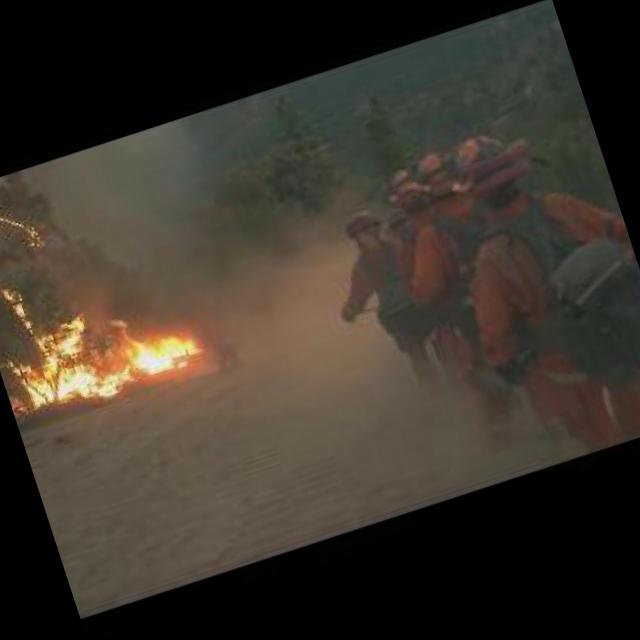fire: (0, 221, 215, 434), (0, 183, 42, 261)
